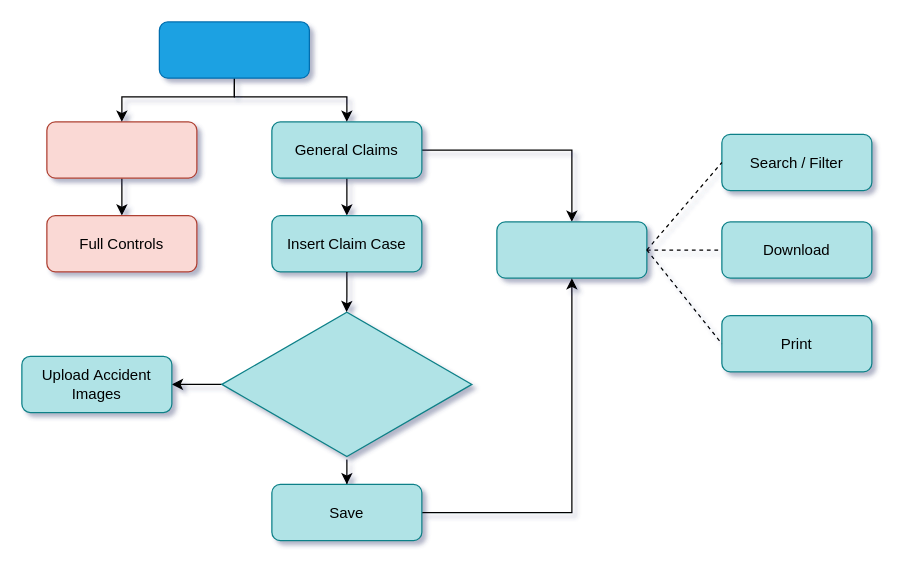
Image size: 901x570. Some labels were removed from this diagram. The shapes that lost their labels are listed below. From the top down, each one's centre as x and y in pixels, then its label:
At (x=233, y=49): "Login".
At (x=121, y=149): "Admin Claims".
At (x=571, y=249): "Report".
At (x=346, y=383): "Claim Form".
